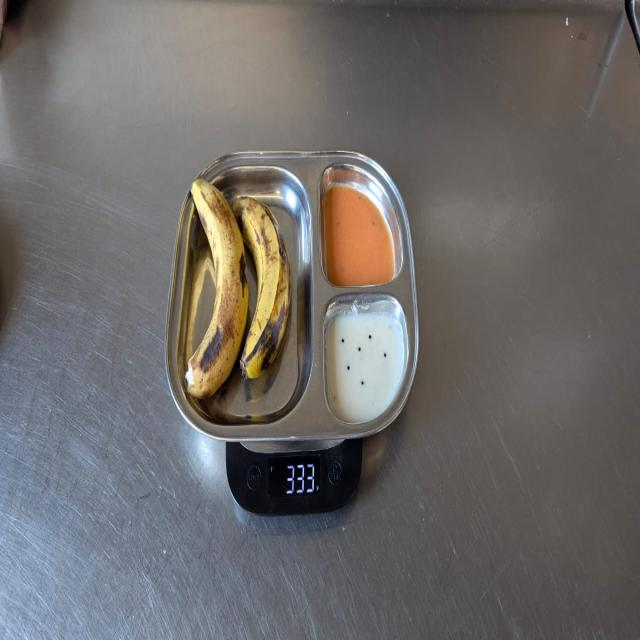Banana: (186, 177, 290, 402)
Chutney: (326, 312, 403, 428), (323, 182, 395, 286)
